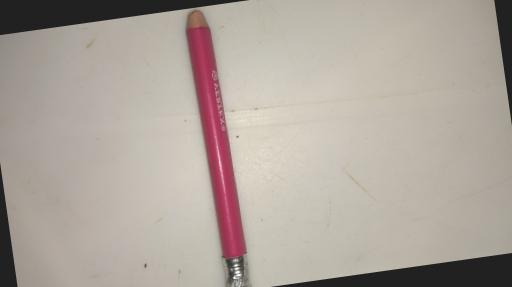Pencil: (183, 4, 254, 287)
